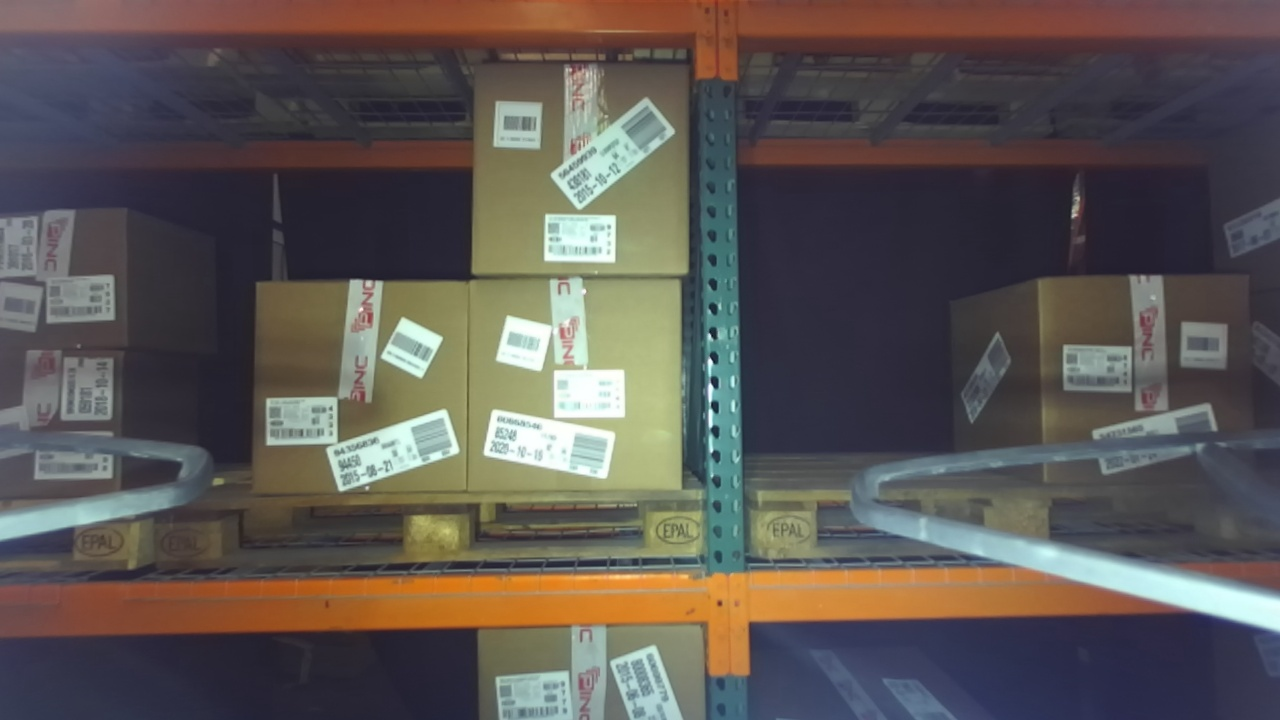box: (445, 236, 707, 527), (238, 258, 493, 516), (446, 46, 705, 284), (1014, 258, 1262, 491), (1, 181, 157, 369), (1, 334, 150, 513)
